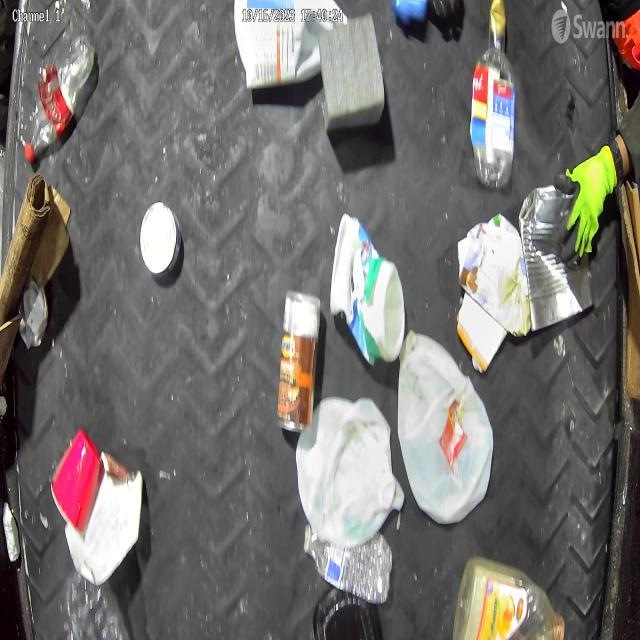can: (524, 188, 588, 304)
milk_jug: (396, 323, 498, 512), (300, 395, 399, 526)
plastic_bottle: (26, 32, 96, 166), (304, 524, 392, 598)
